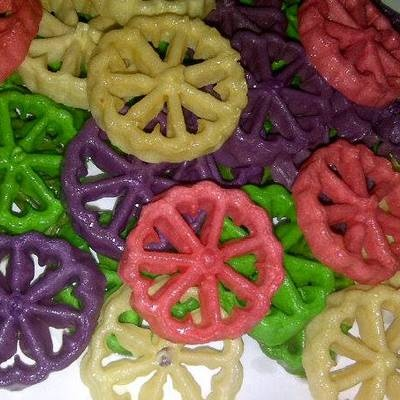kembang_goyang: (75, 5, 240, 154), (113, 185, 260, 338)
